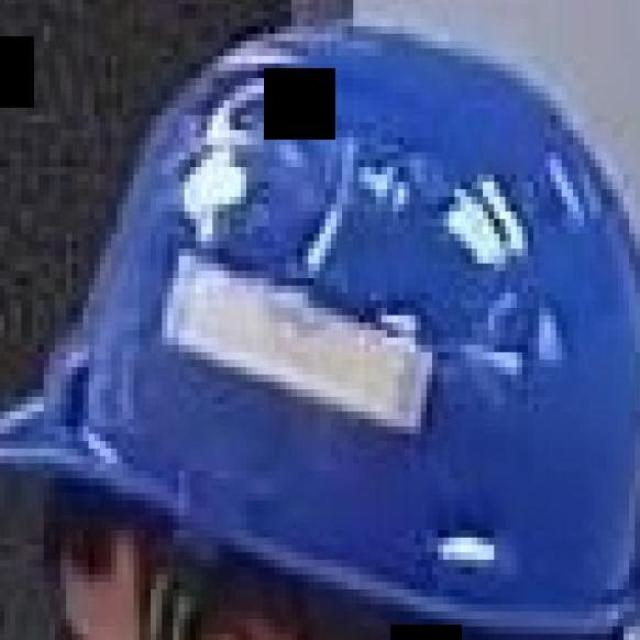blue helmet: (3, 32, 640, 640)
